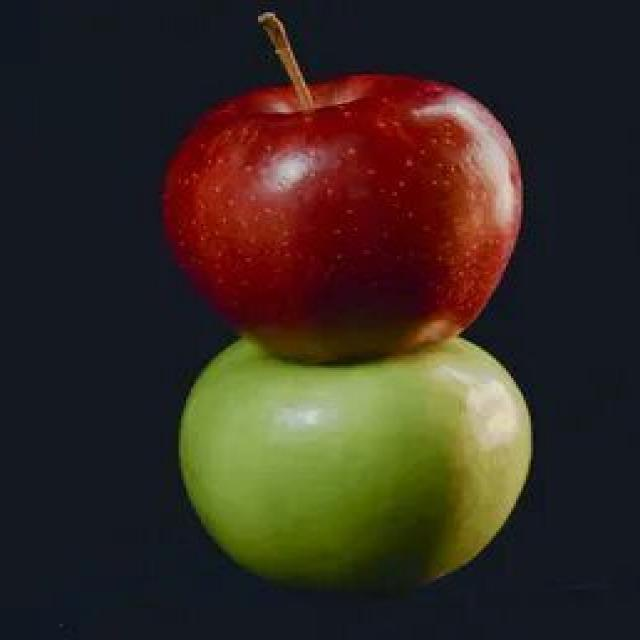Fresh Apple: (178, 84, 510, 358), (182, 338, 528, 588)
